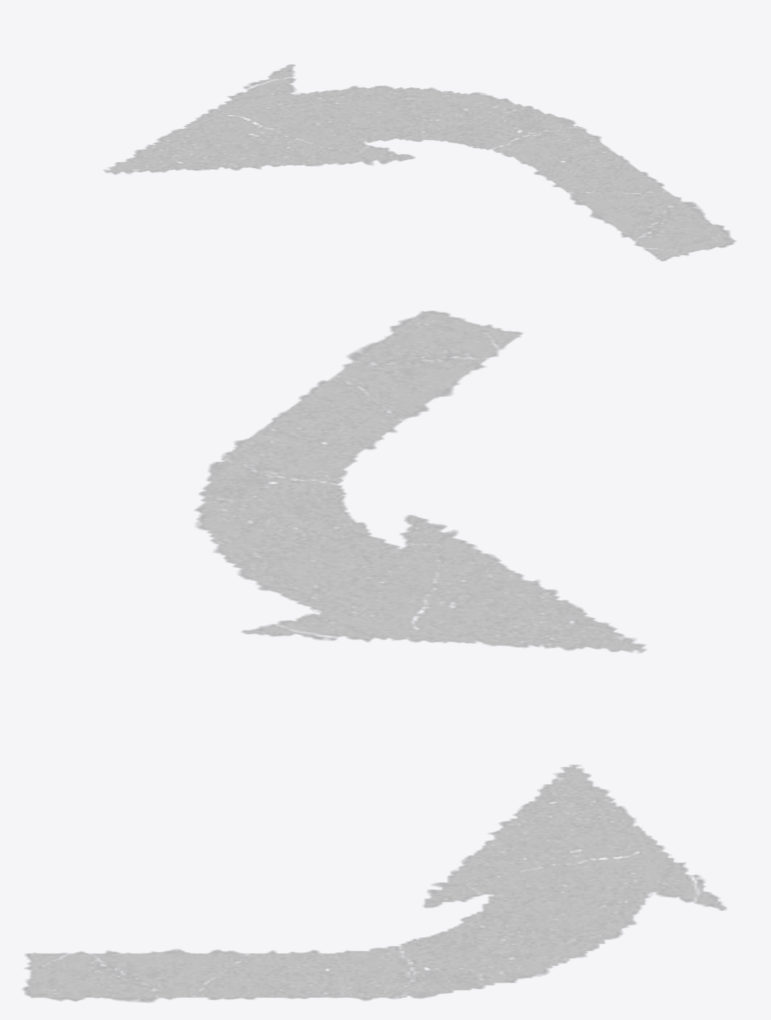
File: Decal_ArrowTurnLeft.glb
The picture shows the model from 3 angles, top to bottom: view 1: azimuth 30°, elevation 25°; view 2: azimuth 150°, elevation 25°; view 3: azimuth 270°, elevation 25°; orthographic projection. The views are drawn at different scales.
Parts seen in each view (by area): view 1: Decal_ArrowTurnLeft; view 2: Decal_ArrowTurnLeft; view 3: Decal_ArrowTurnLeft.
Part boxes in pixels (x1,y1,x2,y2): Decal_ArrowTurnLeft: (104,64,735,260); Decal_ArrowTurnLeft: (195,311,646,652); Decal_ArrowTurnLeft: (22,764,726,1002).
Bounding box in the file's own units: 1.99 × 0 × 2.5.
1 material, 1 textured.
